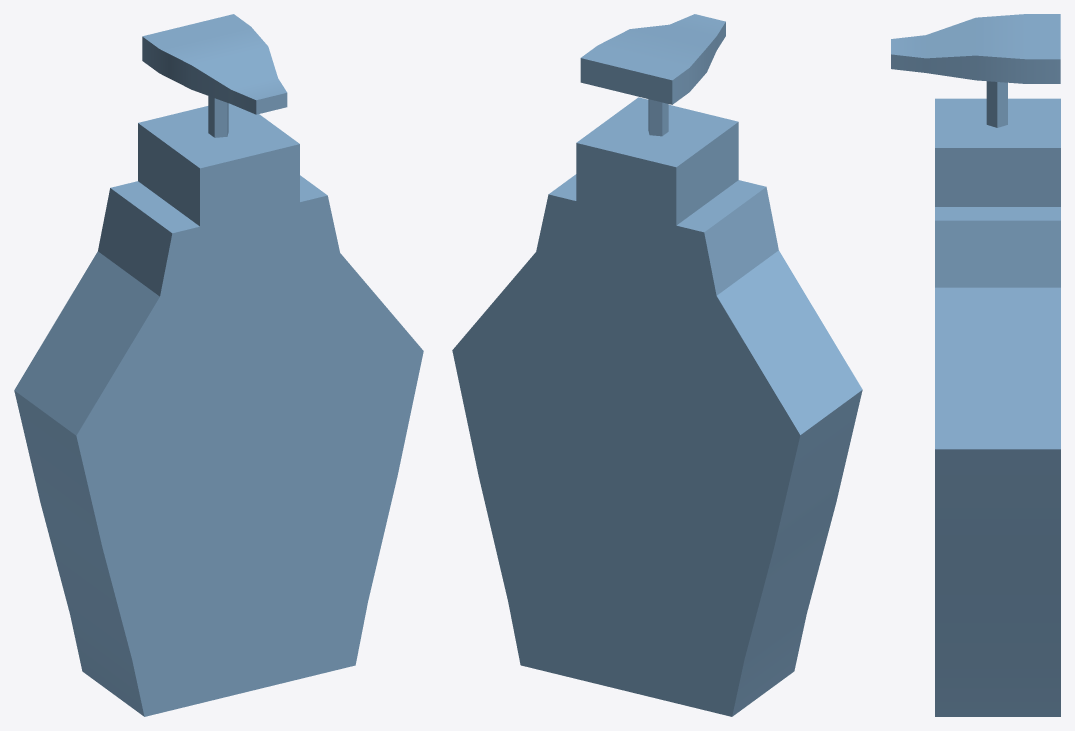
Rendered from SoapBottle.fbx.
The picture shows the model from 3 angles, left to right: view 1: azimuth 30°, elevation 25°; view 2: azimuth 150°, elevation 25°; view 3: azimuth 270°, elevation 25°; orthographic projection.
Visible parts, largest first — view 1: Soapbottle; view 2: Soapbottle; view 3: Soapbottle.
Boxes of the visible parts, left/top/right/bottom form: Soapbottle: left=14, top=14, right=423, bottom=716; Soapbottle: left=452, top=14, right=862, bottom=716; Soapbottle: left=891, top=14, right=1060, bottom=716.
Bounding box in the file's own units: 200 × 341 × 83.63.
Materials: 1 (1 with a texture image).
